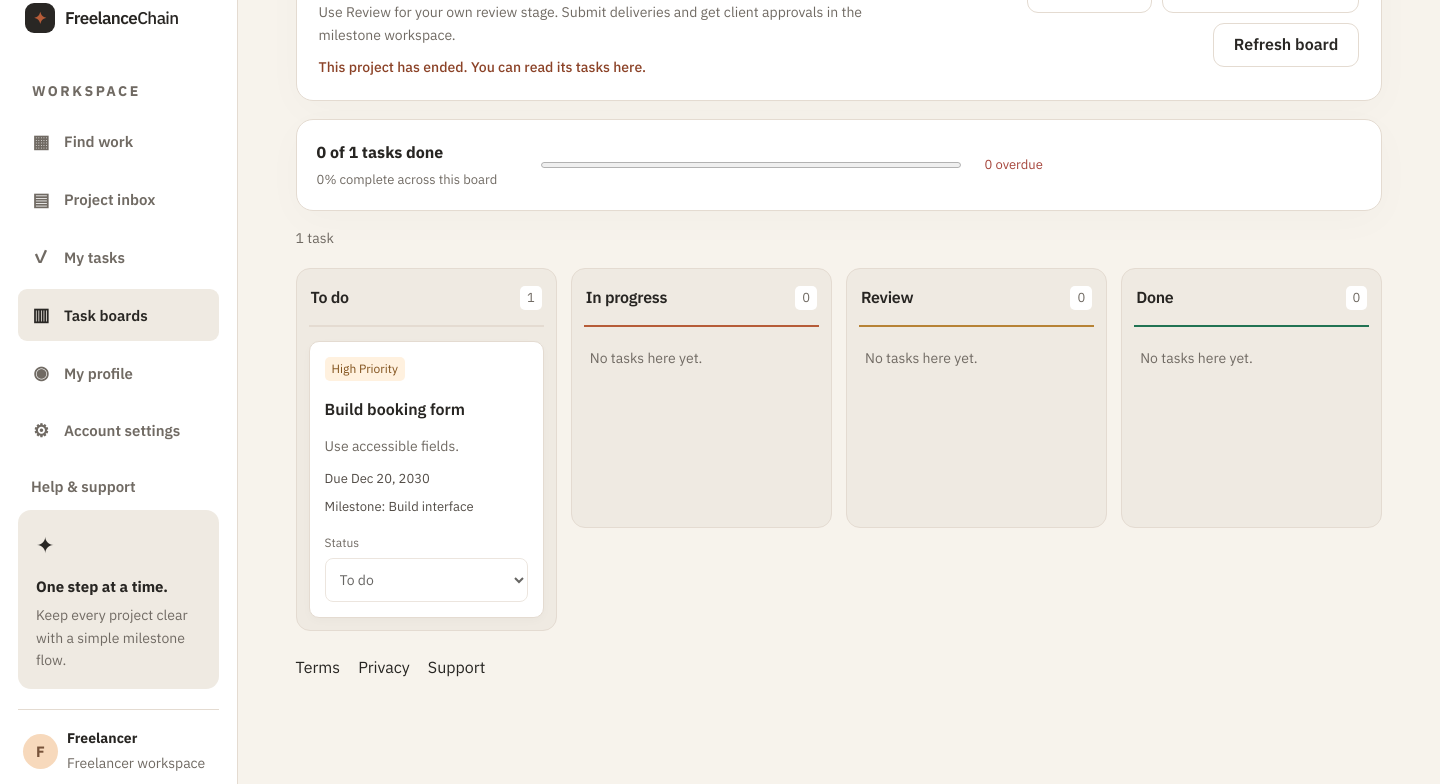
Scenario: ended projects show readable task details without editing or moving
(page scrolled)
Click the button "Build booking form" at (426, 409), box left=325, top=393, right=528, bottom=425
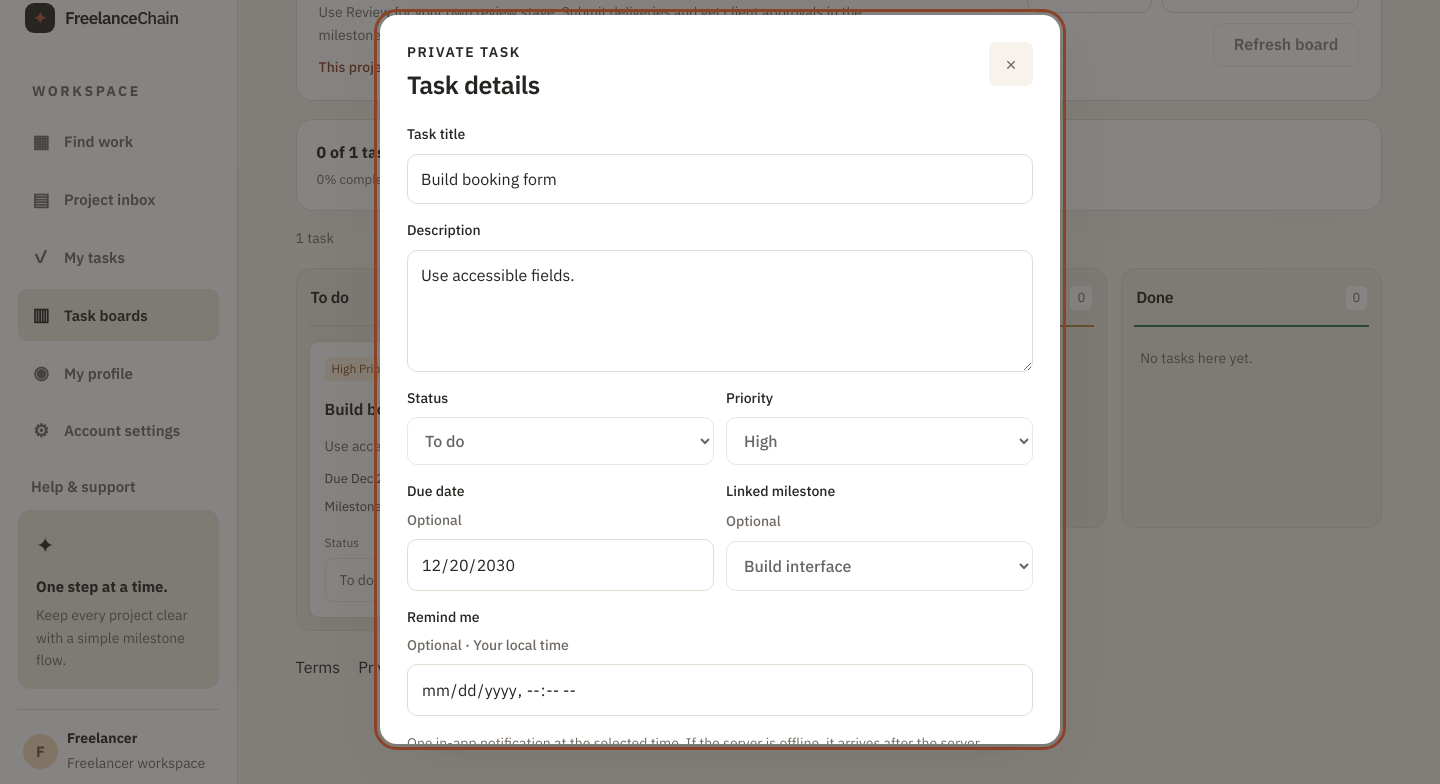
expect the field labelled "Task title" is disabled: met, box left=407, top=154, right=1033, bottom=204
expect the dialog "Task details" is shown: met, box left=380, top=14, right=1060, bottom=744
